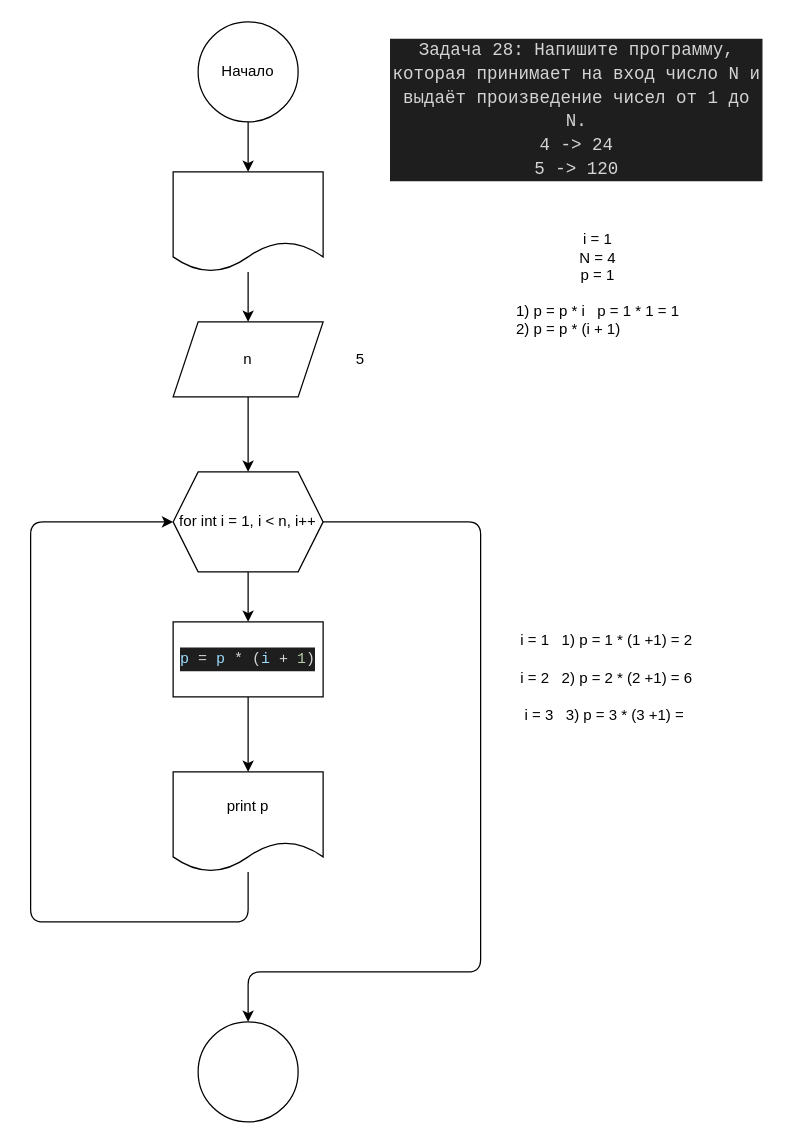
The diagram is 786 pixels wide and 1144 high, and some of its shapes have lost their labels. The shapes that lost their labels are listed below. From the top down, each one's centre as x and y in pixels, then its label:
At [247,221]: "Введите число n".
At [247,1071]: "Конец".
